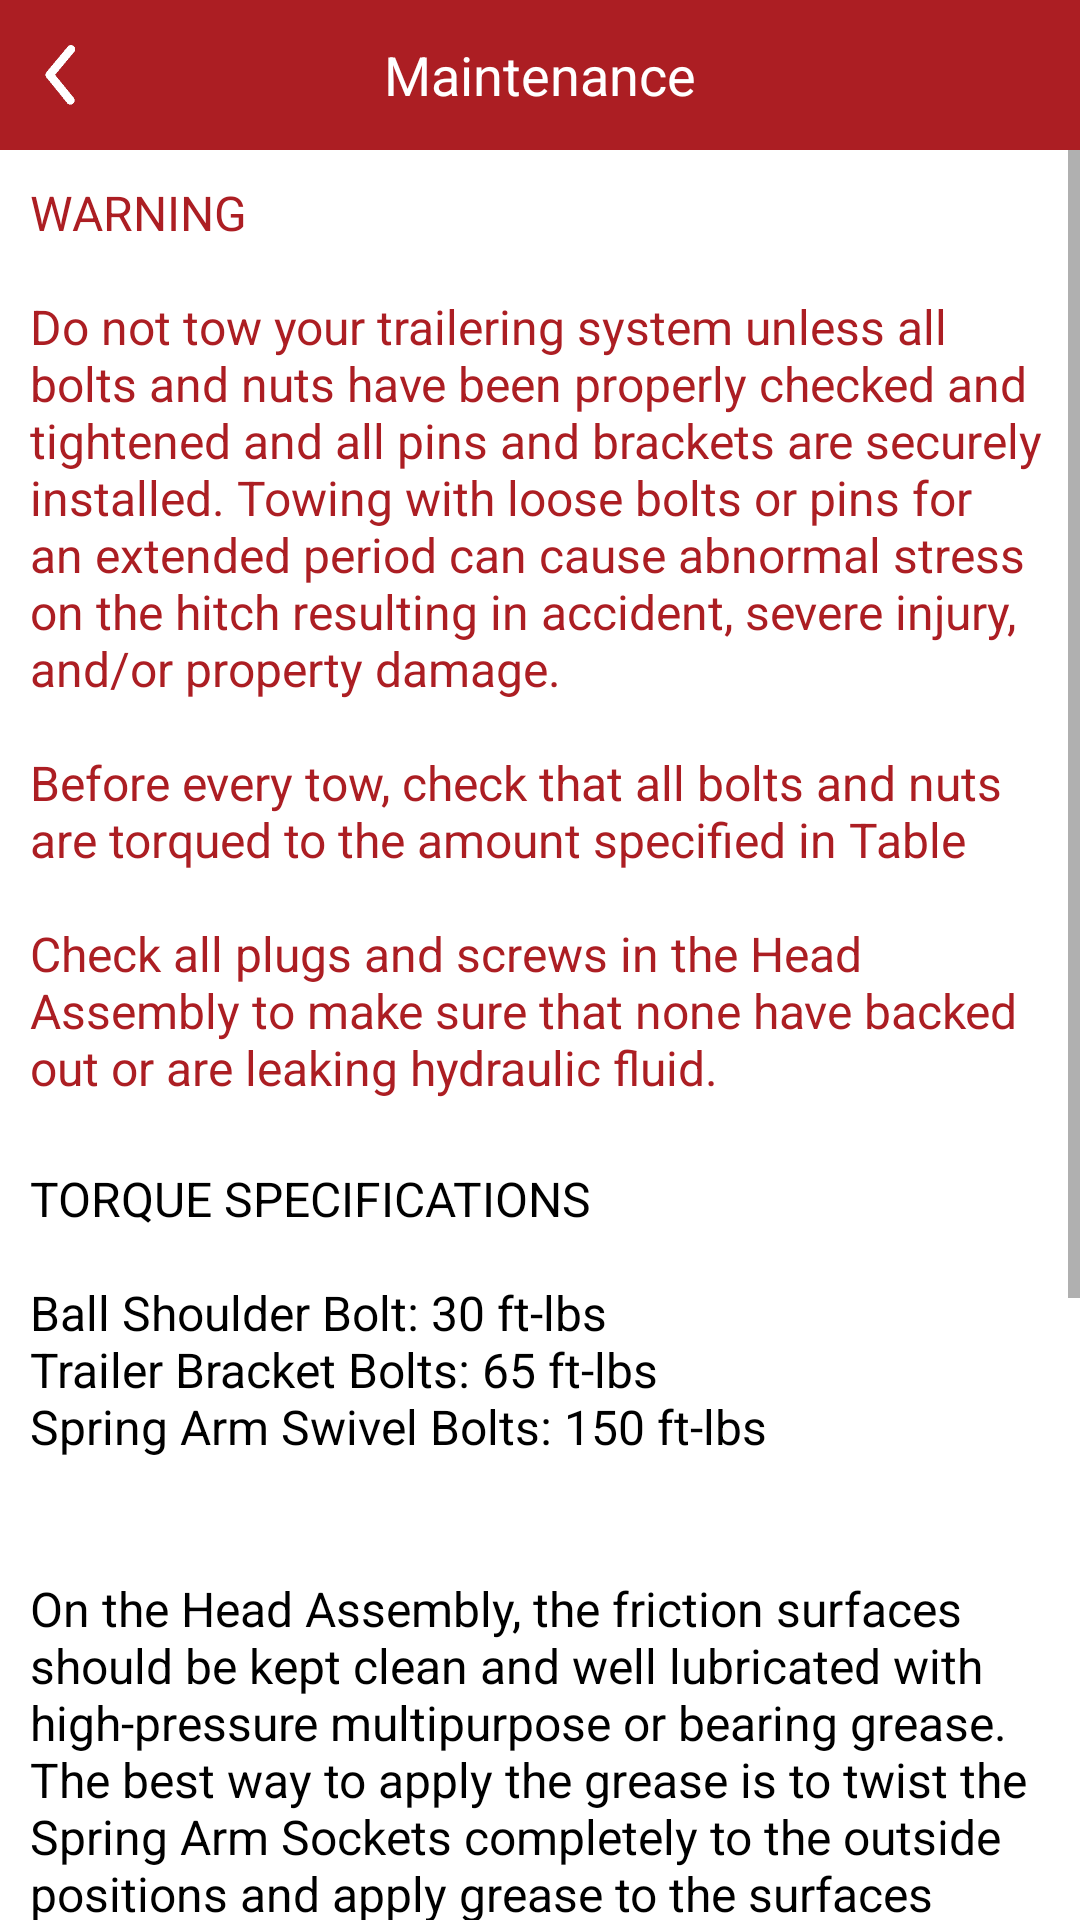

Locate icon controls on the screen. Image size 1080*1920, boxes as [x1, y1, x2, y2].
back: [45, 45, 75, 105]
